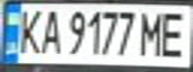1: (84, 7, 103, 55)
7: (115, 8, 139, 56), (100, 7, 121, 56)
9: (63, 7, 87, 55)
A: (36, 6, 63, 55)
E: (157, 8, 190, 59)
K: (15, 6, 45, 55)
M: (136, 8, 166, 57)
